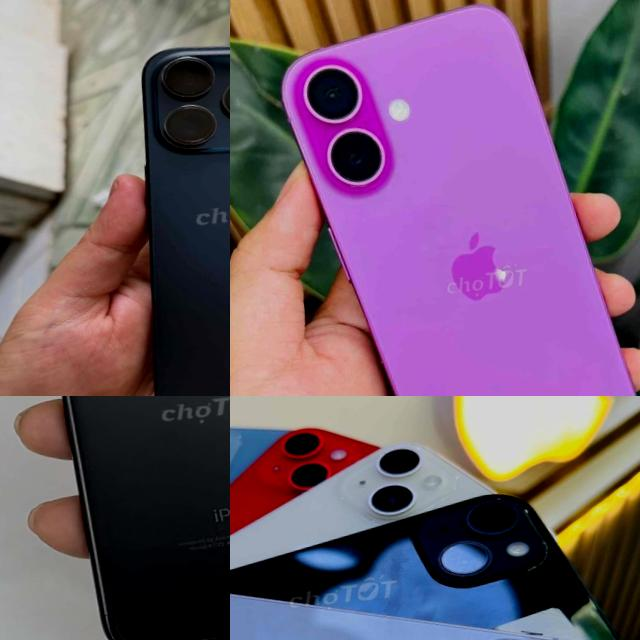gen_15: (90, 17, 230, 396)
gen_16: (282, 5, 636, 396)
gen_7_8: (12, 396, 230, 640)
